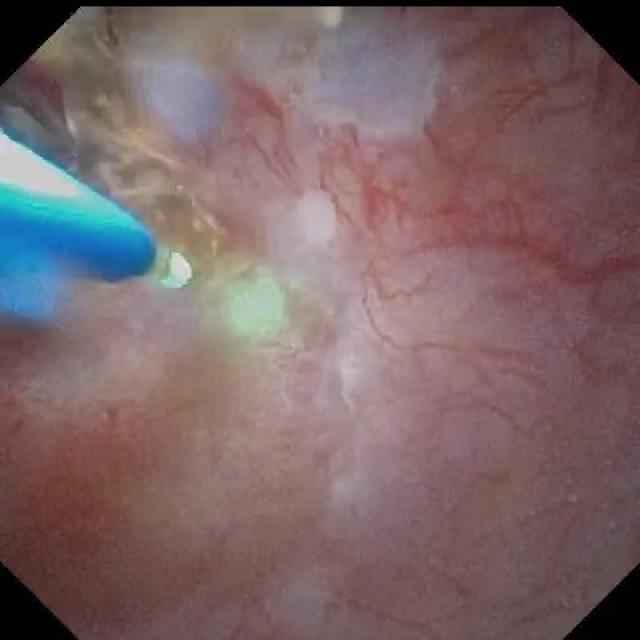laser-fibre: (145, 245, 192, 286)
laser_dot: (229, 275, 282, 333)
stone-new: (0, 6, 218, 253)
